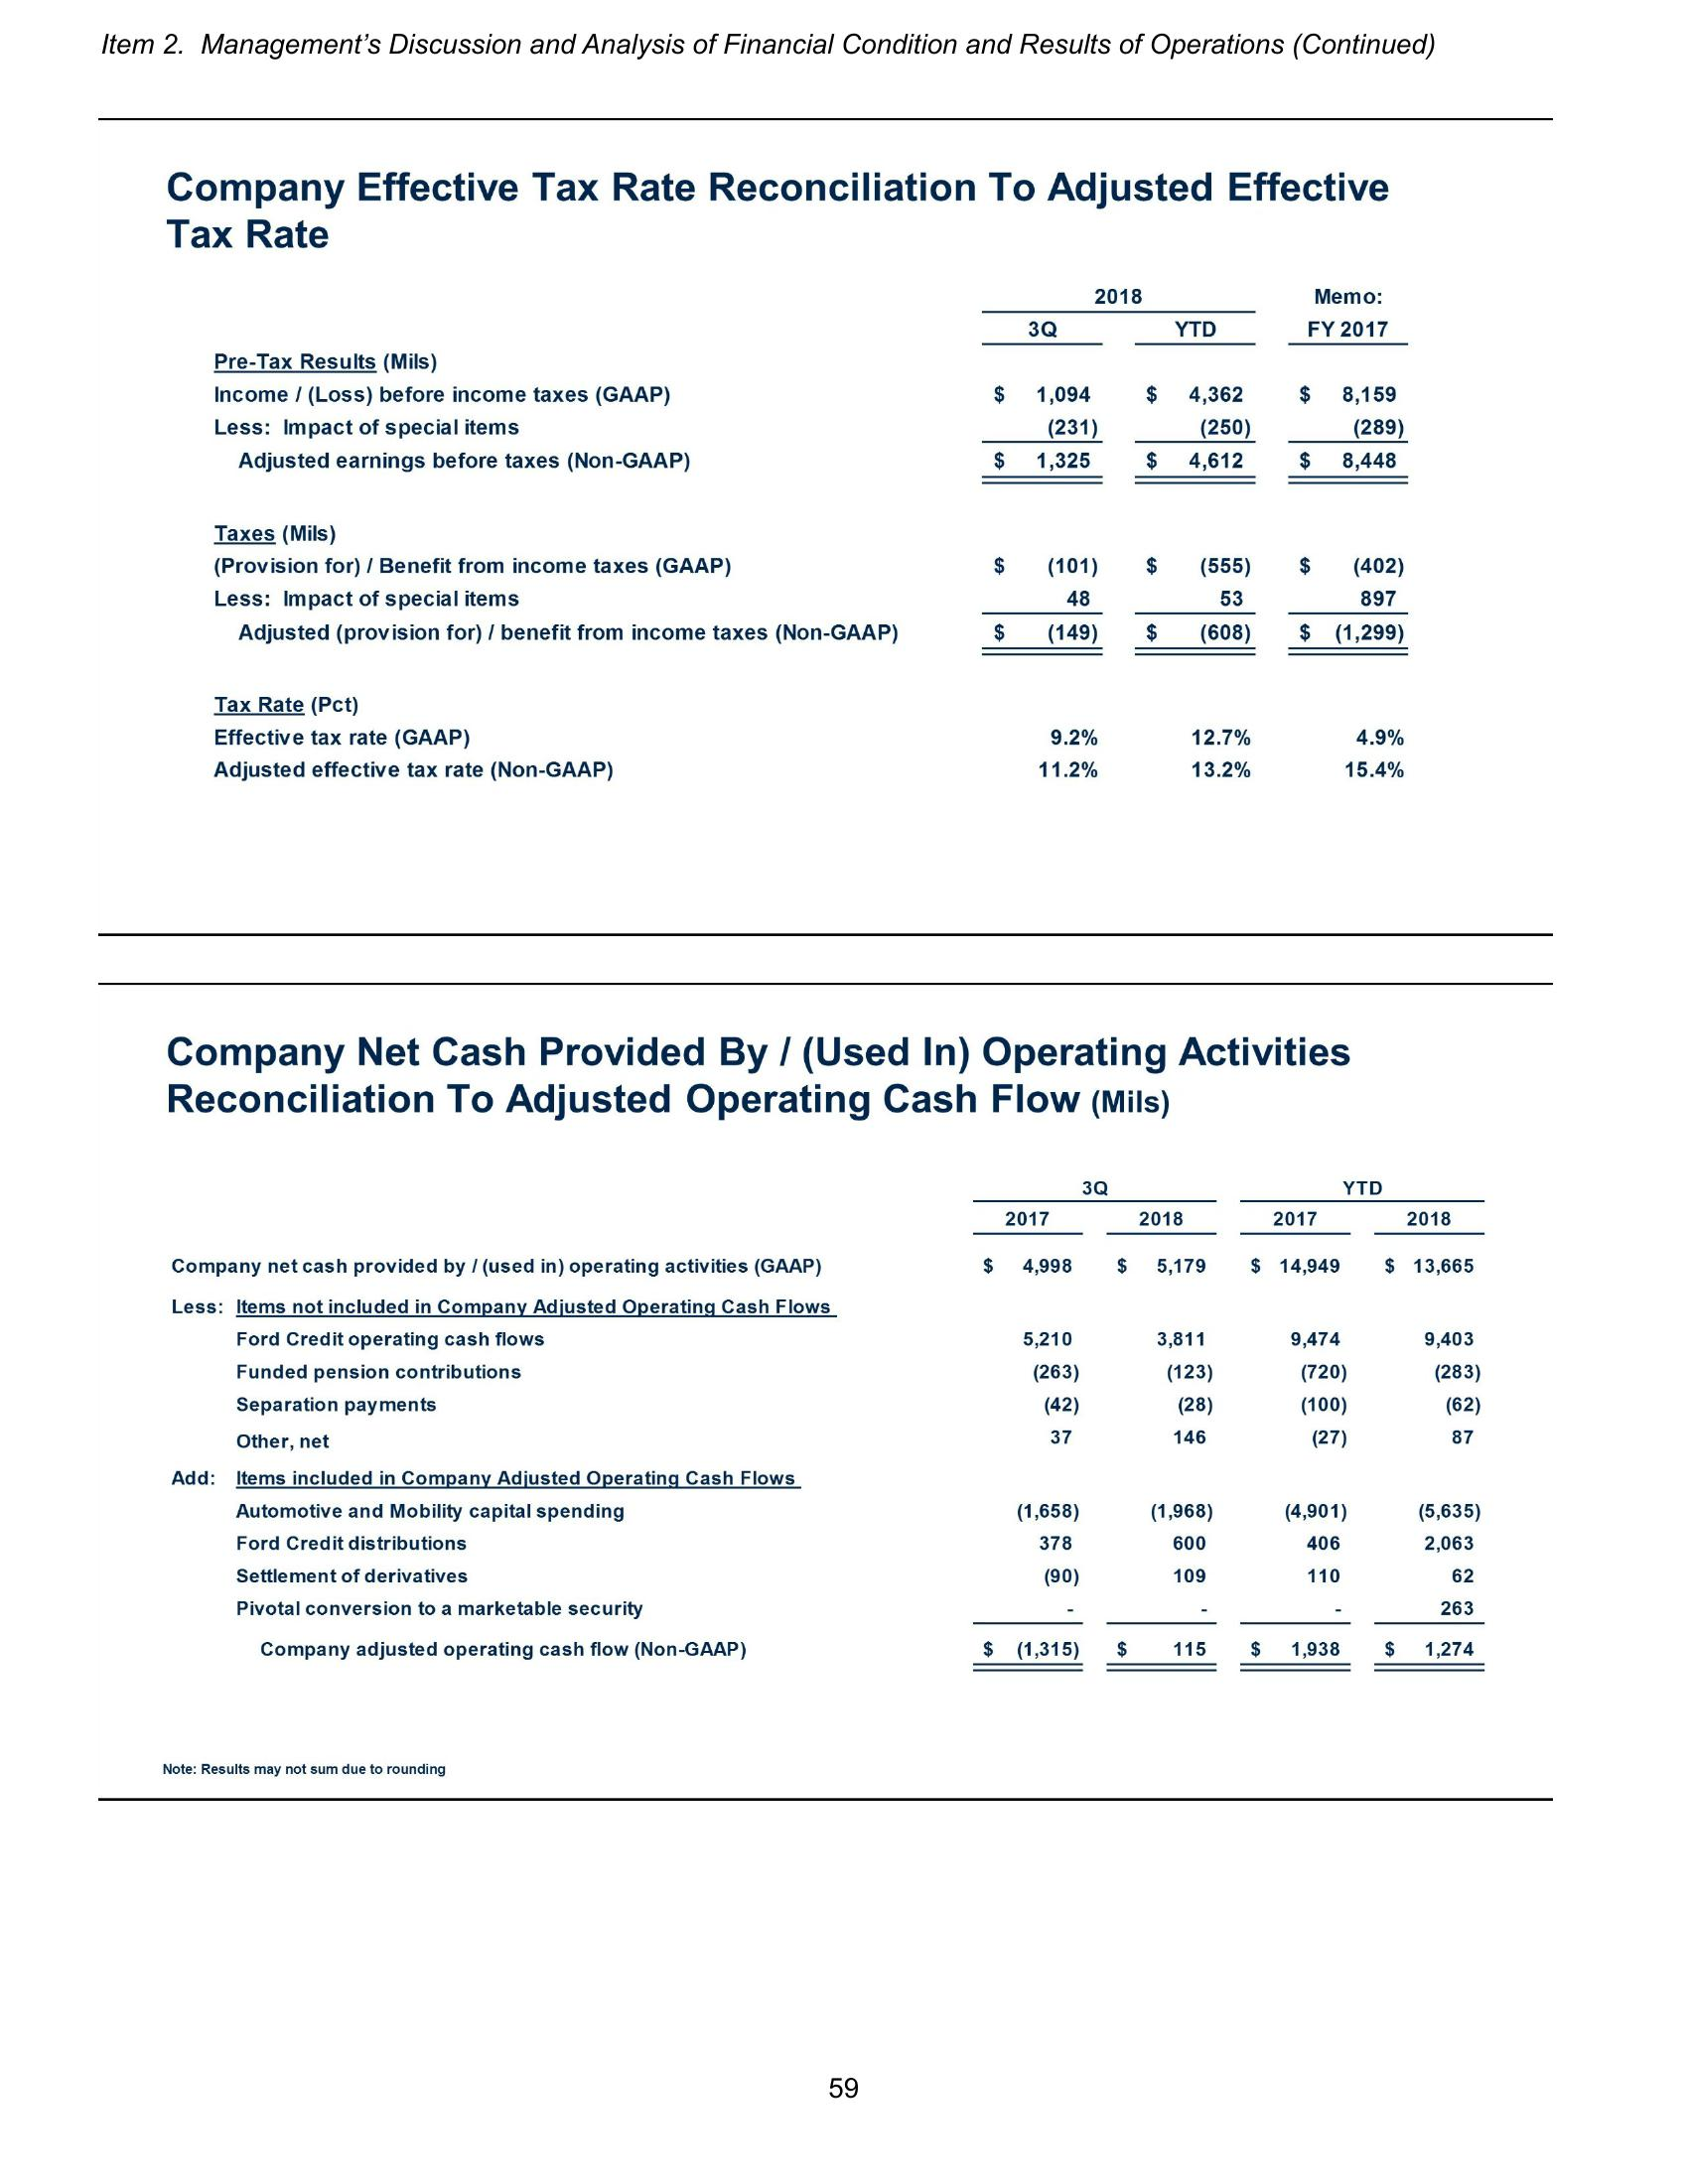table: (163, 1172, 1491, 1681), (200, 277, 1413, 787)
